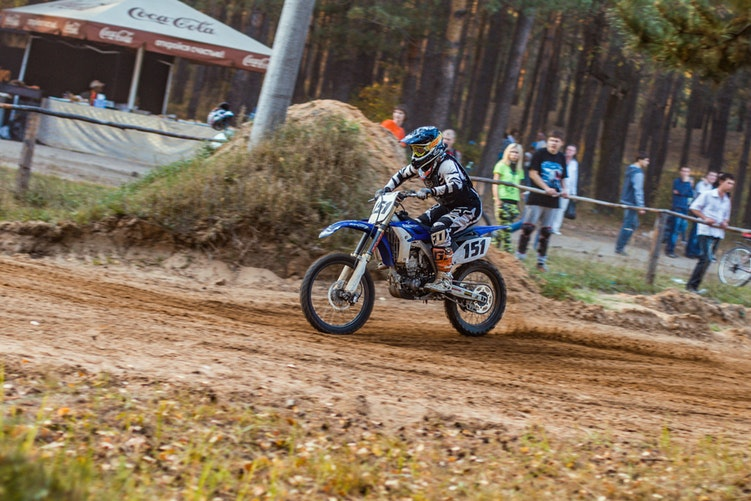helmet: (408, 120, 456, 181)
